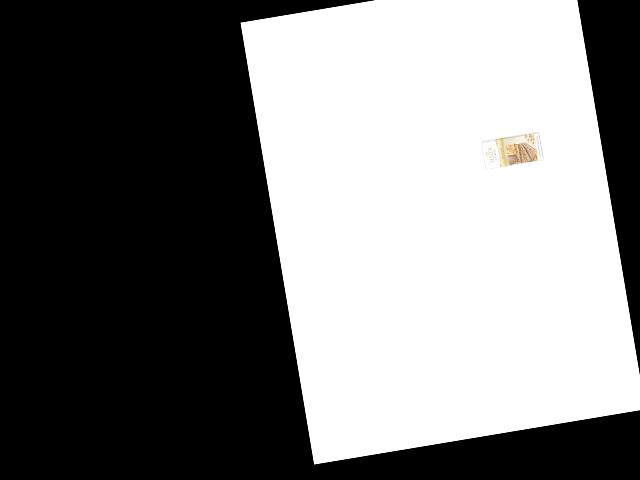chocolate: (476, 120, 547, 175)
